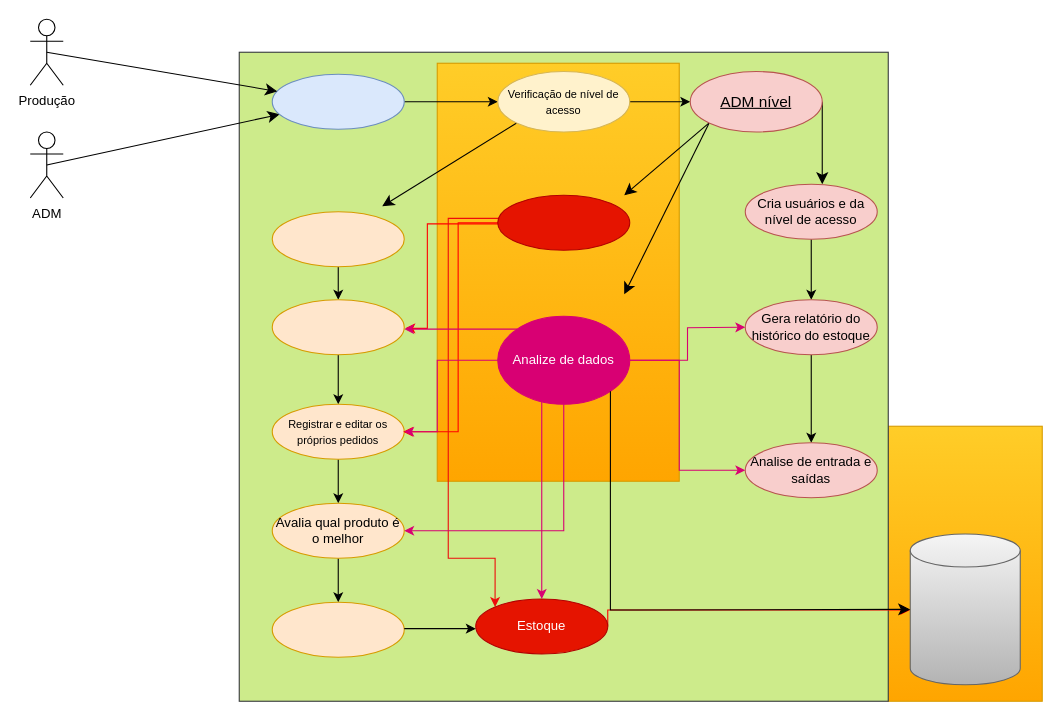
Image size: 1062x721. Some labels were removed from this diagram. Each missing label, with the box of its shape:
Banco de dados: (909, 533, 1020, 685)
Cadastra e apaga itens: (497, 194, 630, 250)
Login: (271, 73, 404, 129)
Produção Nível: (271, 211, 404, 267)
Registrar e editar retiradas do estoque: (271, 299, 404, 355)
Vê a quantidade de itens no estoque: (271, 601, 404, 657)
